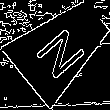N_NE: (31, 16, 92, 78)
